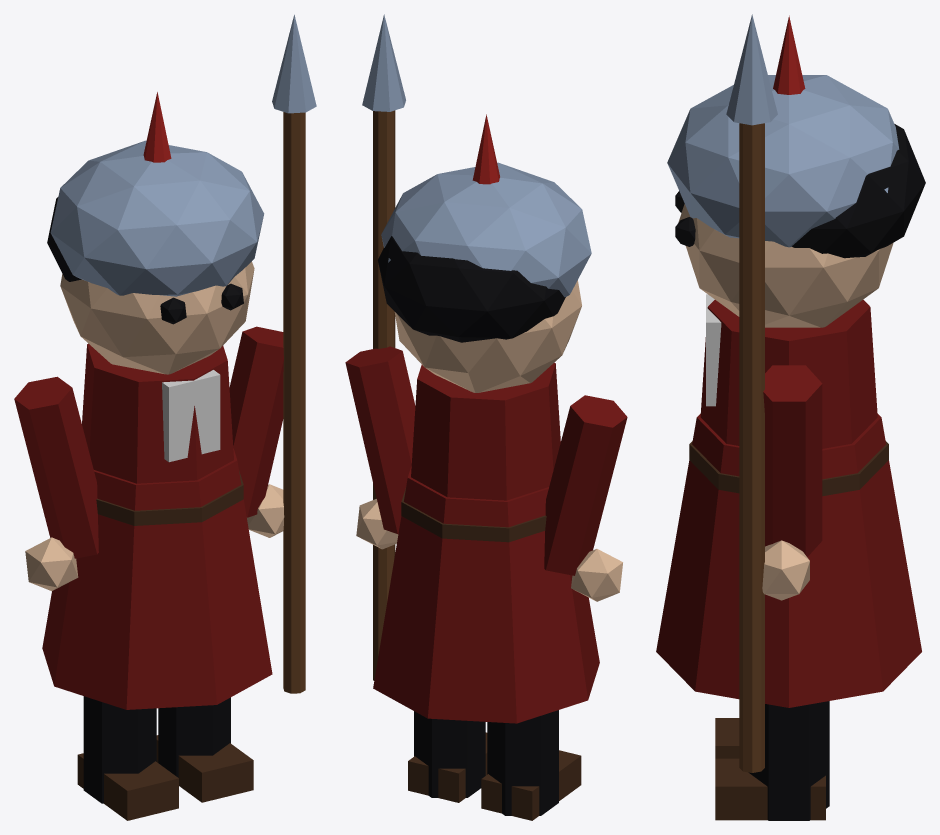
File: SM_GZ_npc_guard.fbx
3 renders of one model, left to right at view 1: azimuth 30°, elevation 25°; view 2: azimuth 150°, elevation 25°; view 3: azimuth 270°, elevation 25°, orthographic. The views are drawn at different scales.
Visible parts, largest first — view 1: SM_GZ_npc_guard; view 2: SM_GZ_npc_guard; view 3: SM_GZ_npc_guard.
Part boxes in pixels (left/top/right/bottom): SM_GZ_npc_guard: left=14, top=14, right=316, bottom=820; SM_GZ_npc_guard: left=345, top=14, right=627, bottom=820; SM_GZ_npc_guard: left=656, top=14, right=925, bottom=820.
Size of the model in its own units: 96.36 by 250 by 73.
